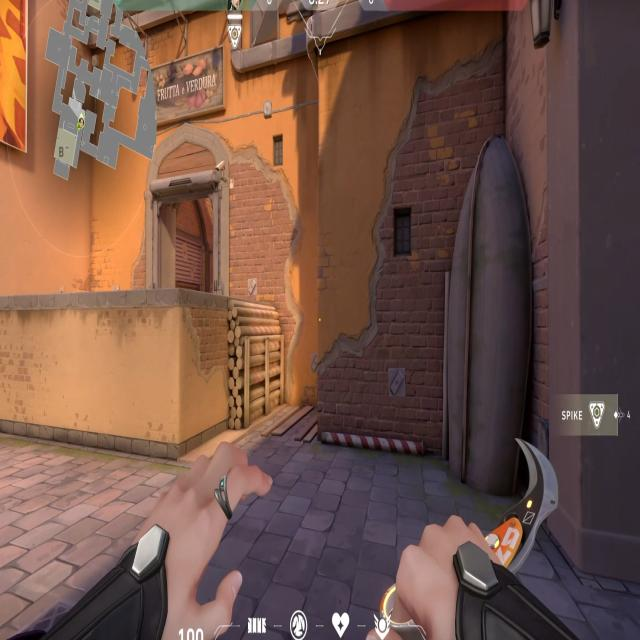B_Cubby: (170, 280, 275, 444)
